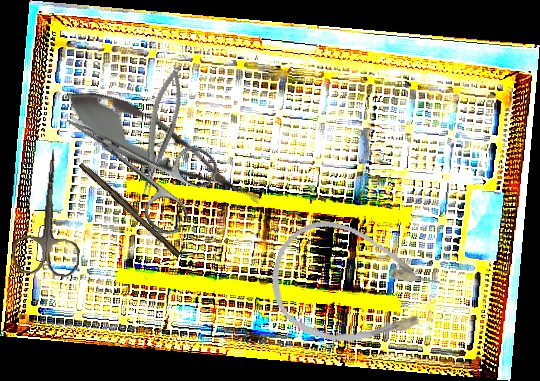Cannula: (260, 210, 448, 364)
Iris Scissors: (44, 76, 224, 241), (10, 146, 89, 278)
Micro Scissor: (52, 72, 274, 225)
Needle Holder: (128, 62, 193, 198)
Scalpel Handle: (76, 160, 185, 258)
